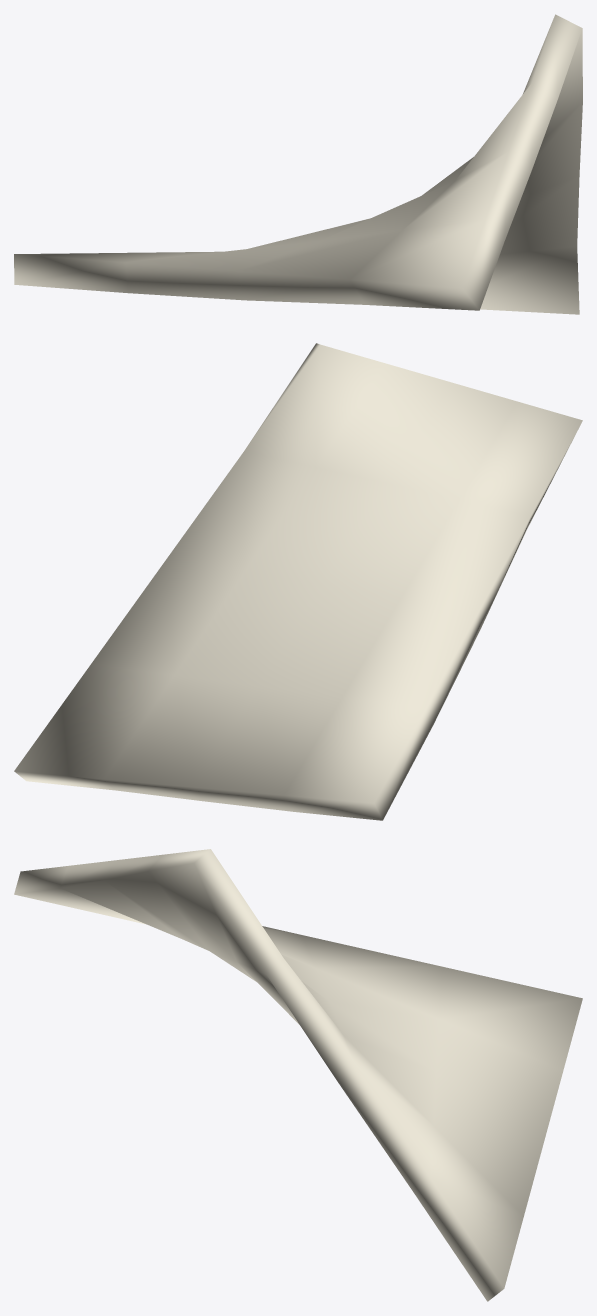
The picture shows the model from 3 angles, top to bottom: view 1: azimuth 30°, elevation 25°; view 2: azimuth 150°, elevation 25°; view 3: azimuth 270°, elevation 25°; orthographic projection. The views are drawn at different scales.
Parts seen in each view (by area): view 1: ZA_6befaf7bc54a6b76; view 2: ZA_6befaf7bc54a6b76; view 3: ZA_6befaf7bc54a6b76.
Boxes of the visible parts, x1,y1,x2,y2 form: ZA_6befaf7bc54a6b76: (14,14,582,314); ZA_6befaf7bc54a6b76: (14,343,582,820); ZA_6befaf7bc54a6b76: (14,849,582,1301).
Size of the model in its own units: 0.0097 by 0.00859 by 0.0118.
